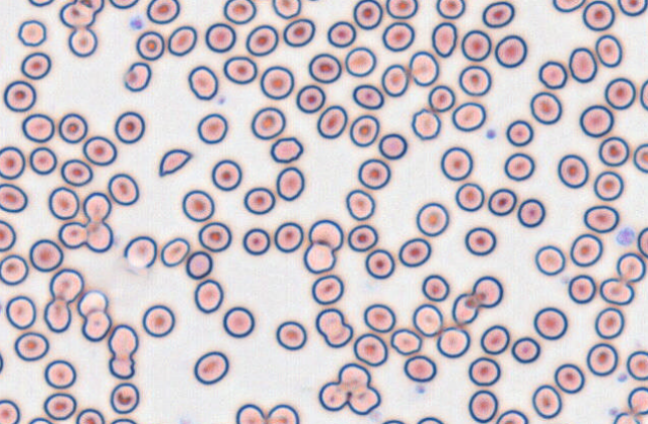PLT: (617, 226, 637, 247), (129, 14, 145, 32), (484, 128, 497, 140), (416, 384, 428, 396), (607, 404, 619, 416), (617, 371, 627, 383)
RBC: (314, 307, 353, 348), (193, 350, 229, 385), (49, 268, 84, 303), (353, 332, 388, 366), (259, 65, 294, 99), (250, 106, 285, 140), (29, 238, 63, 272), (123, 235, 157, 269), (533, 306, 567, 340), (569, 233, 603, 267), (415, 202, 449, 236), (579, 104, 614, 137), (440, 146, 473, 181), (302, 241, 336, 274), (141, 304, 175, 337), (494, 34, 527, 68), (308, 219, 343, 251), (557, 153, 589, 188), (107, 323, 138, 359), (408, 50, 439, 86), (3, 79, 36, 112), (529, 91, 562, 124), (181, 189, 214, 222), (436, 326, 470, 358), (586, 342, 618, 376), (531, 384, 562, 419), (187, 65, 218, 100), (316, 104, 347, 139), (451, 101, 486, 132), (82, 135, 117, 166), (568, 46, 597, 83), (471, 275, 503, 308), (458, 64, 491, 96), (245, 24, 278, 56), (107, 172, 139, 205), (467, 389, 498, 423), (412, 303, 443, 337), (48, 186, 79, 220), (5, 295, 36, 329), (357, 158, 391, 189), (114, 110, 145, 144), (197, 221, 231, 252), (193, 278, 223, 313), (14, 331, 49, 361), (275, 166, 305, 201), (583, 204, 619, 233), (222, 306, 254, 338), (196, 112, 228, 144), (604, 77, 636, 109), (81, 309, 112, 342), (582, 0, 615, 31), (311, 274, 344, 305), (308, 52, 341, 83), (211, 158, 242, 191), (337, 362, 371, 392), (347, 385, 381, 415), (553, 363, 585, 394), (410, 108, 441, 140), (534, 244, 565, 276), (460, 29, 491, 61), (344, 46, 376, 77), (273, 221, 304, 253), (467, 356, 500, 386), (363, 303, 396, 333), (594, 306, 624, 339), (43, 359, 76, 389), (398, 237, 431, 267), (349, 114, 379, 147), (21, 113, 54, 143), (223, 55, 257, 84), (43, 298, 71, 333), (599, 277, 634, 305), (59, 1, 95, 28), (364, 248, 395, 279), (593, 170, 624, 201), (109, 382, 139, 414), (204, 22, 236, 52), (464, 226, 496, 256), (345, 188, 375, 220), (382, 21, 414, 51), (282, 18, 315, 47), (381, 63, 409, 97), (431, 21, 457, 57), (616, 252, 646, 283), (275, 320, 306, 350), (167, 25, 197, 56), (598, 136, 629, 166), (58, 112, 88, 143), (76, 289, 108, 318), (0, 253, 29, 285), (503, 152, 535, 181), (243, 186, 275, 215), (451, 292, 479, 325), (403, 354, 436, 382), (43, 392, 76, 420), (60, 158, 93, 186), (318, 381, 348, 411), (454, 182, 484, 212), (352, 0, 382, 30), (160, 237, 190, 267), (82, 191, 111, 222), (68, 26, 97, 57), (480, 324, 509, 355), (20, 51, 51, 80), (347, 223, 378, 252), (85, 220, 113, 252), (482, 0, 514, 28), (595, 34, 622, 67), (270, 136, 303, 163), (567, 274, 596, 304), (135, 30, 164, 60), (487, 187, 517, 216), (295, 84, 325, 113), (123, 61, 151, 92), (390, 328, 422, 355), (0, 145, 25, 179), (538, 60, 567, 89), (517, 198, 545, 228), (352, 83, 384, 109), (146, 0, 180, 24), (58, 221, 87, 249), (185, 250, 213, 279), (29, 146, 57, 175), (378, 132, 407, 160), (0, 183, 27, 213), (223, 0, 256, 24), (427, 84, 455, 112), (421, 273, 449, 301), (242, 227, 270, 255), (511, 336, 540, 363), (17, 19, 46, 46), (327, 20, 356, 47), (505, 119, 533, 146), (266, 403, 299, 423), (626, 350, 648, 380), (627, 386, 648, 415), (385, 0, 417, 19), (235, 403, 265, 423), (271, 0, 301, 19), (435, 0, 465, 19), (0, 219, 16, 251), (0, 399, 20, 423), (75, 408, 105, 424), (617, 0, 647, 16), (495, 409, 528, 423), (633, 142, 647, 173), (75, 0, 104, 14), (552, 0, 585, 12), (637, 226, 648, 258), (612, 411, 640, 423), (639, 78, 648, 110), (108, 0, 139, 9), (27, 416, 53, 424), (416, 416, 444, 423), (28, 0, 54, 7), (110, 417, 137, 423), (381, 418, 406, 424), (0, 349, 4, 375)
Schistocyte: (158, 149, 193, 177), (108, 352, 138, 380)
